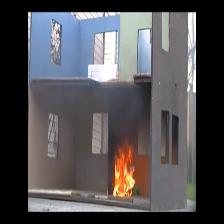fire: (112, 147, 136, 197)
smoke: (108, 90, 136, 130)
